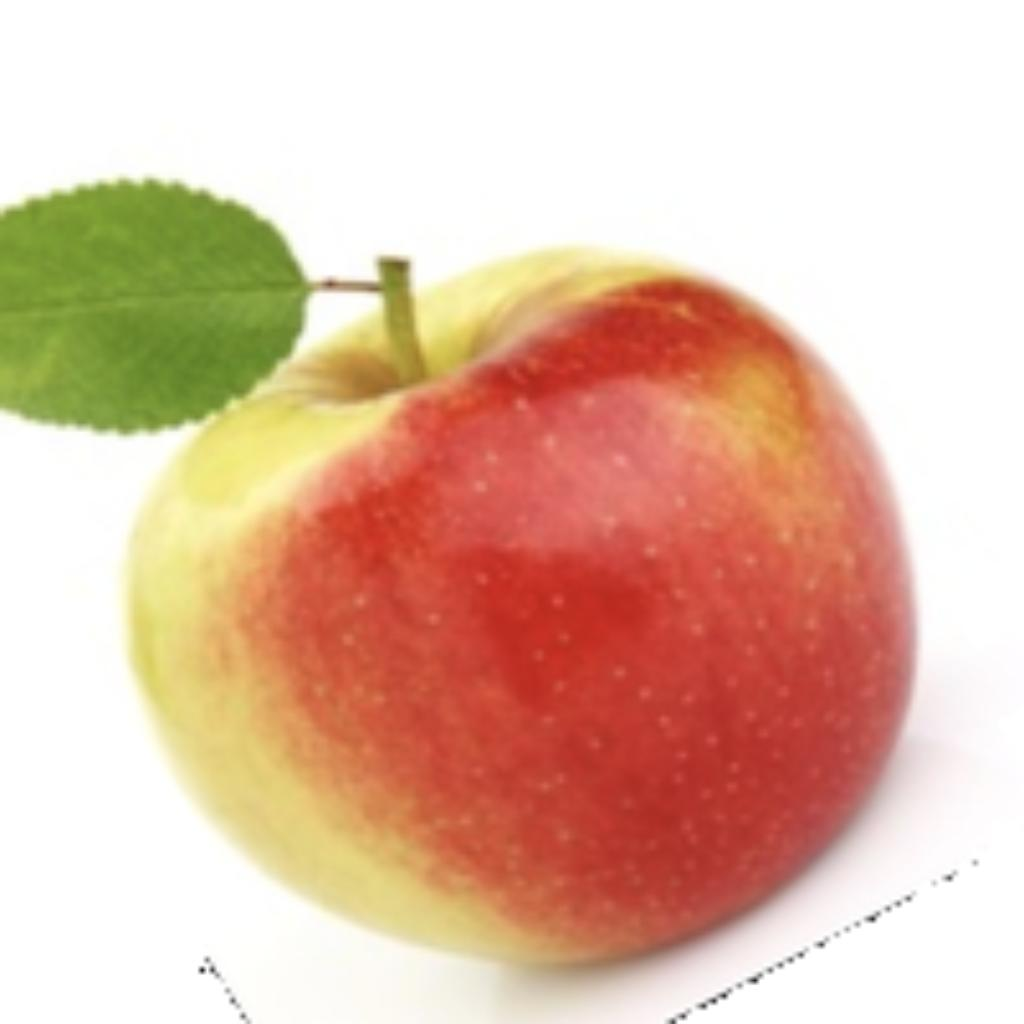apple: (0, 169, 983, 1019)
